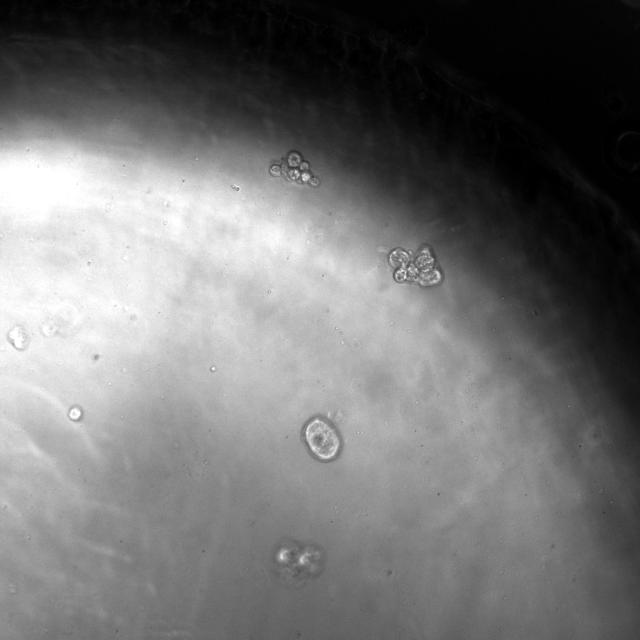organoid: (271, 539, 326, 588), (388, 243, 443, 286), (301, 415, 342, 462), (269, 151, 319, 186), (8, 325, 29, 349), (68, 405, 83, 421)
